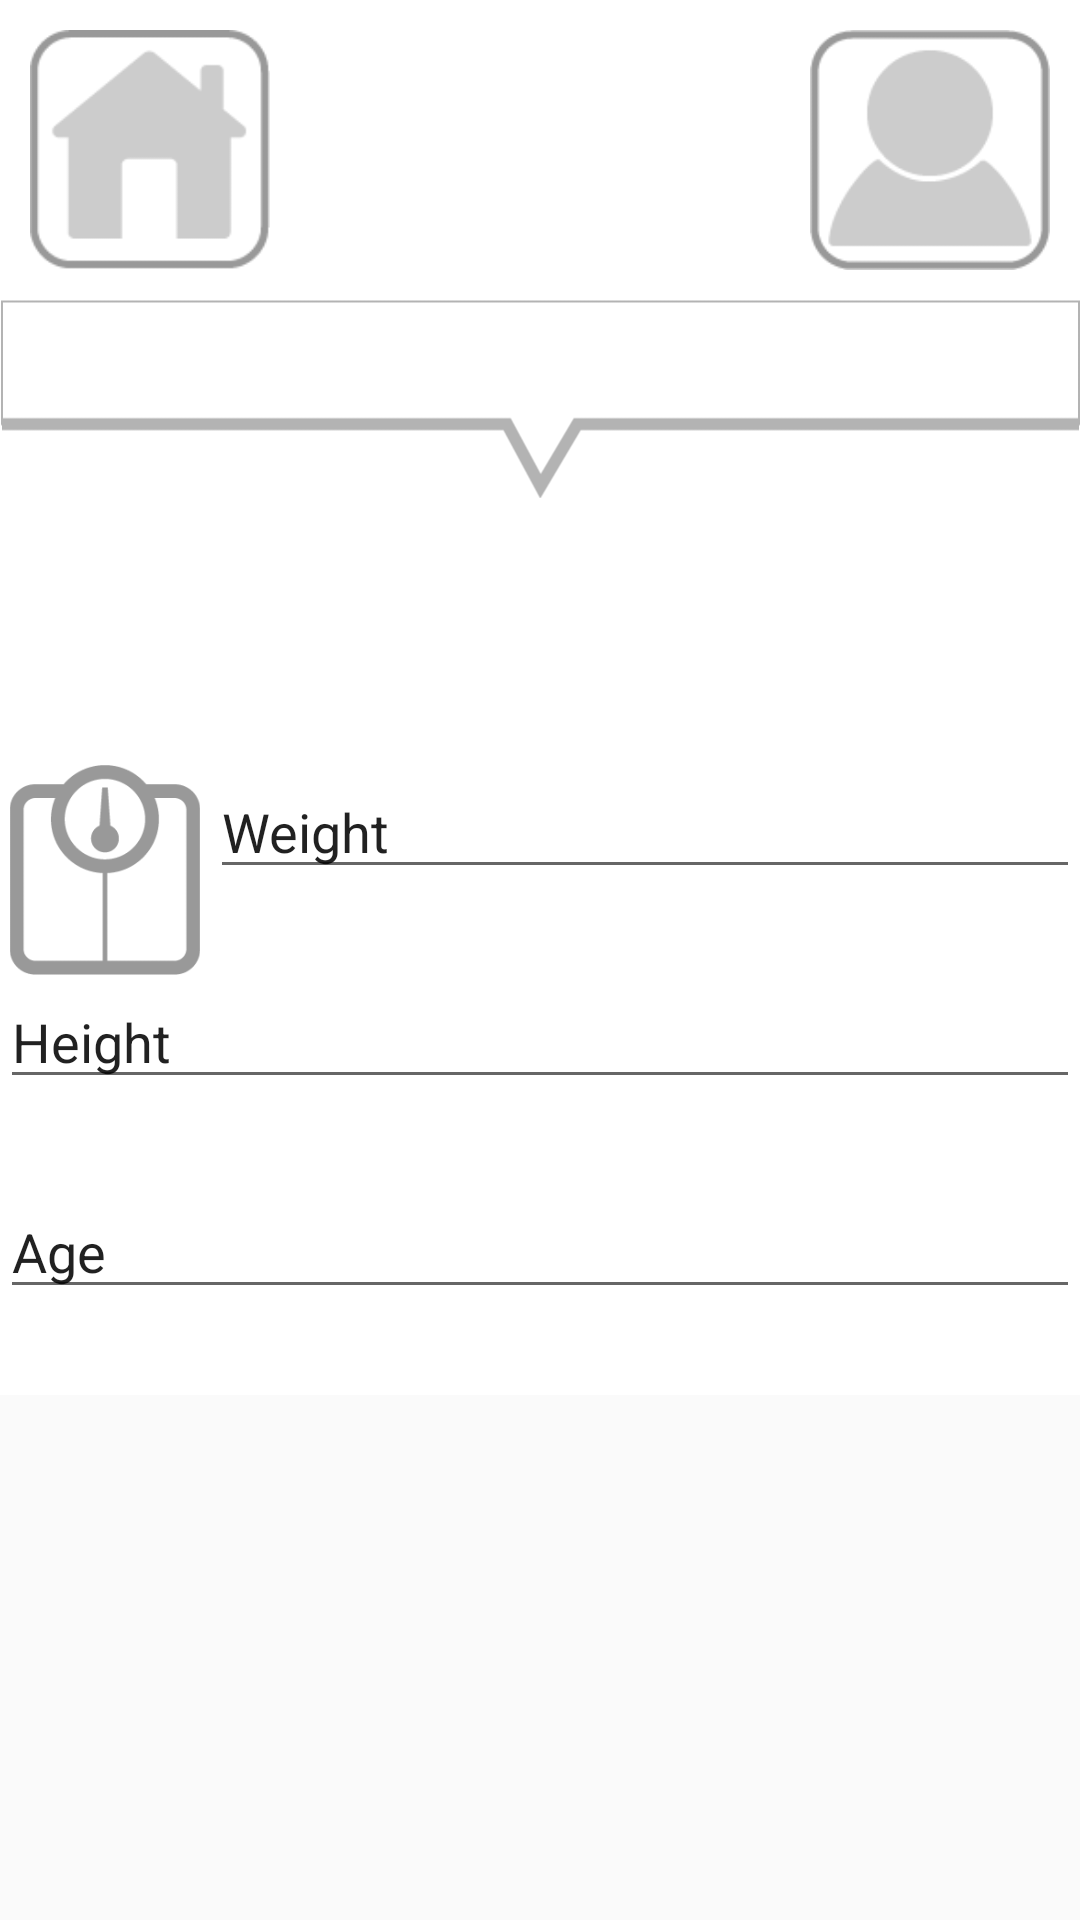

Named icons in this screenshot (1080 × 1920) and their bounding boxes, (x1, y1, x2, y2):
home: (30, 30, 270, 269)
profile: (810, 30, 1050, 270)
scale: (10, 765, 200, 975)
